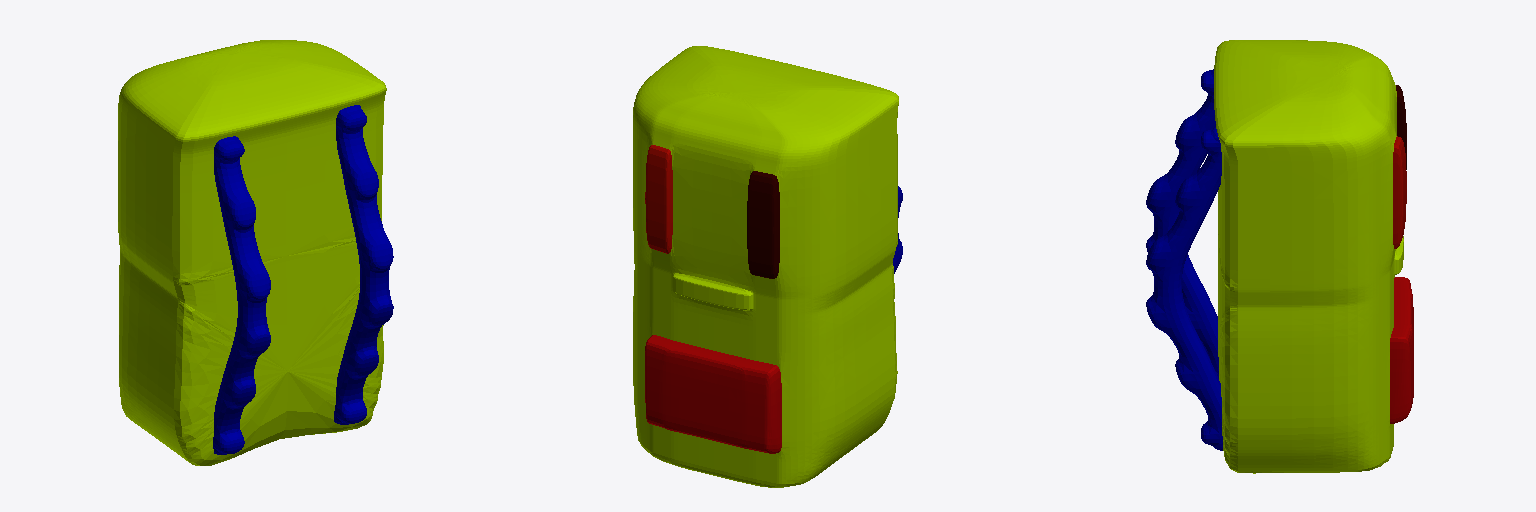
The model's file is Backpack.obj.
The picture shows the model from 3 angles: view 1: azimuth 30°, elevation 25°; view 2: azimuth 150°, elevation 25°; view 3: azimuth 270°, elevation 25°; orthographic projection.
Parts seen in each view (by area): view 1: Plane, Cube_Cube.001; view 2: Plane, Plane.001, Plane.003, Plane.002; view 3: Plane, Cube_Cube.001, Plane.001, Plane.002.
Part boxes in pixels (bbox=[...]): Plane: bbox=[118, 40, 386, 465]; Cube_Cube.001: bbox=[213, 105, 393, 454]; Plane: bbox=[633, 46, 898, 487]; Plane.001: bbox=[645, 335, 781, 453]; Plane.003: bbox=[747, 171, 779, 278]; Plane.002: bbox=[645, 145, 672, 253]; Plane: bbox=[1214, 40, 1403, 473]; Cube_Cube.001: bbox=[1146, 69, 1222, 450]; Plane.001: bbox=[1390, 277, 1413, 423]; Plane.002: bbox=[1393, 136, 1406, 248].
Bounding box in the file's own units: 5.45 × 8.88 × 5.95.